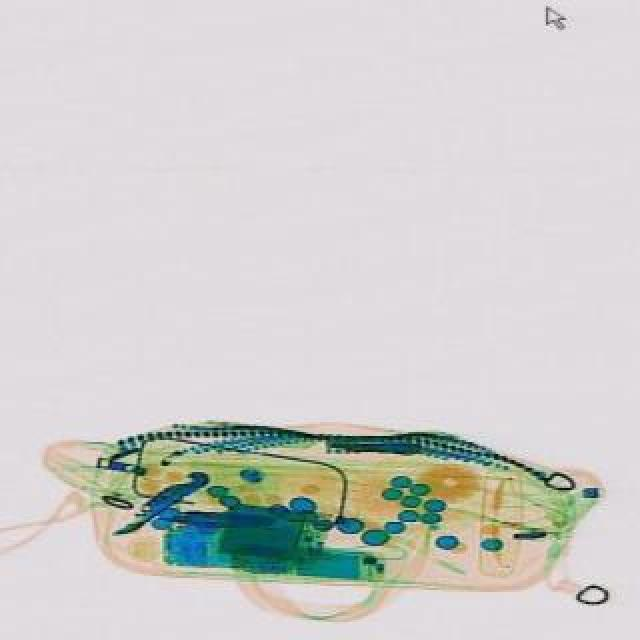knife: (106, 462, 210, 542)
